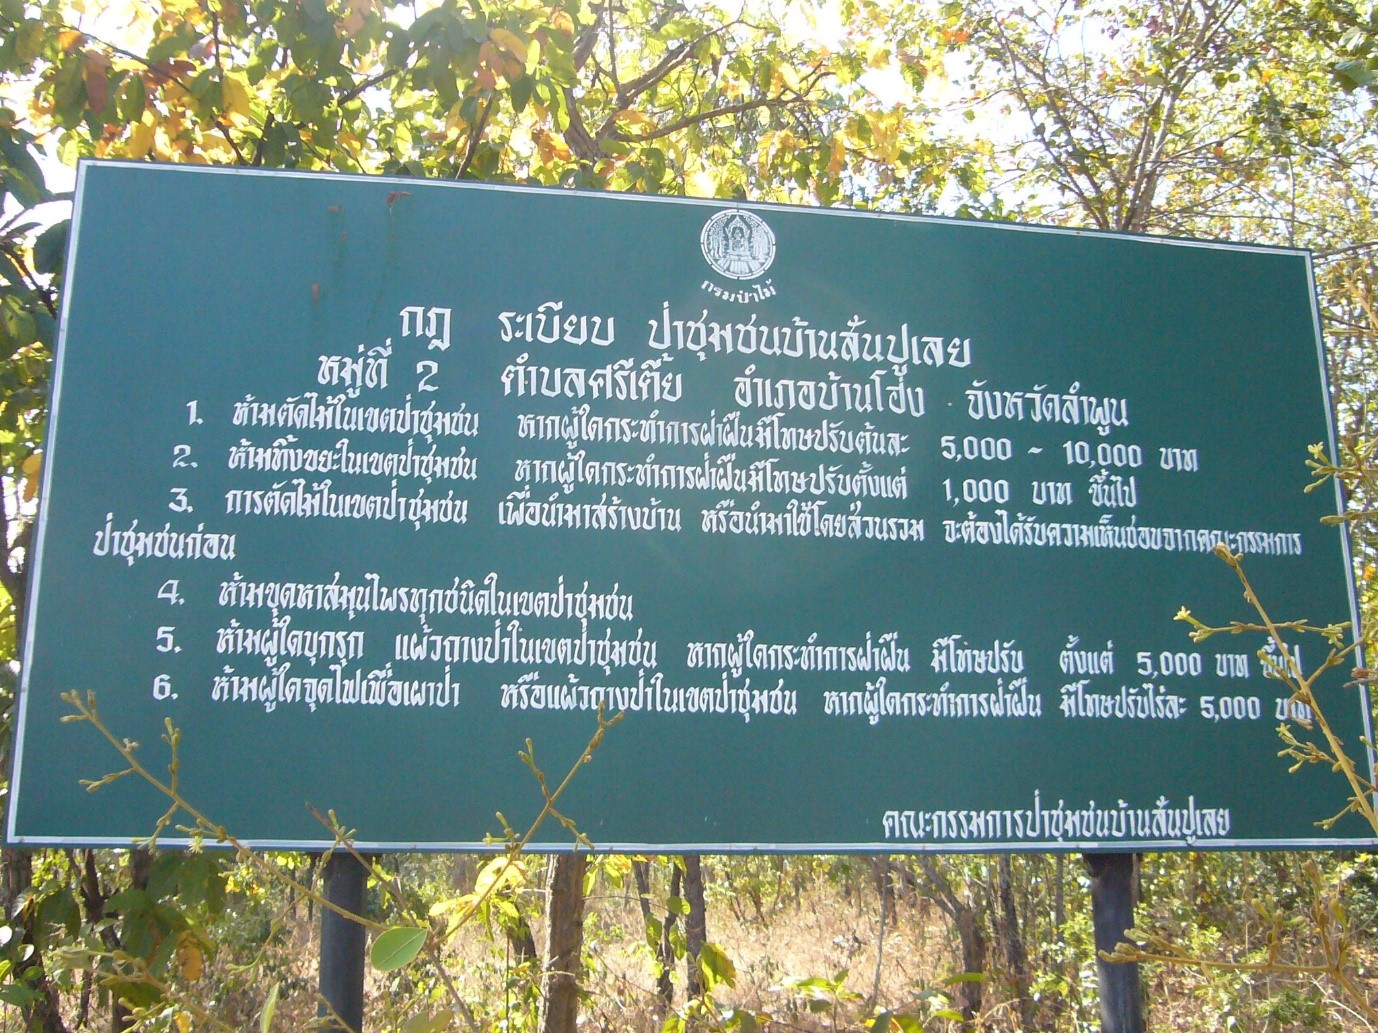text: (508, 398, 915, 463), (639, 295, 978, 373), (213, 566, 635, 626), (507, 443, 913, 505), (936, 506, 1305, 561), (876, 793, 1234, 843), (724, 350, 931, 424), (225, 430, 480, 487), (221, 474, 471, 532), (229, 387, 482, 442), (679, 623, 916, 680), (205, 661, 465, 712), (493, 347, 689, 408), (956, 369, 1134, 434), (818, 675, 1051, 723), (492, 487, 685, 537), (87, 514, 241, 567), (492, 292, 623, 353), (210, 616, 367, 665), (1058, 433, 1202, 479), (1128, 643, 1266, 681), (394, 299, 457, 357), (936, 428, 1015, 466), (1082, 466, 1141, 512), (1055, 638, 1120, 678), (939, 473, 1011, 507), (1196, 689, 1265, 723), (1028, 475, 1077, 508), (152, 621, 184, 656), (411, 357, 441, 394), (165, 483, 196, 515), (169, 441, 201, 472), (154, 576, 187, 607), (151, 671, 179, 701), (184, 397, 204, 426), (567, 401, 590, 418), (756, 280, 774, 299)
